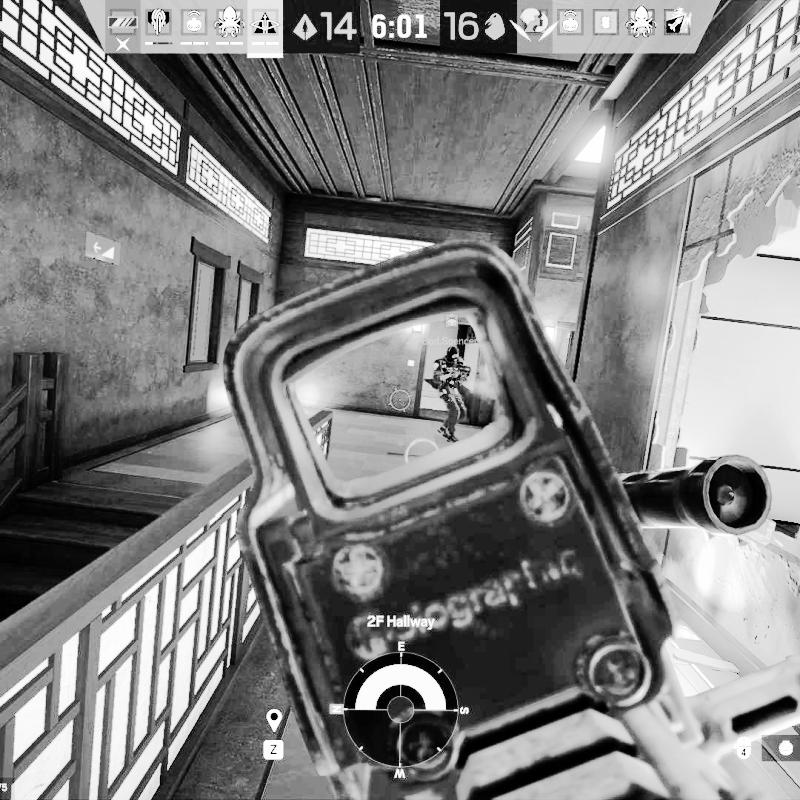Character: (430, 344, 472, 446)
Head: (446, 345, 459, 361)
